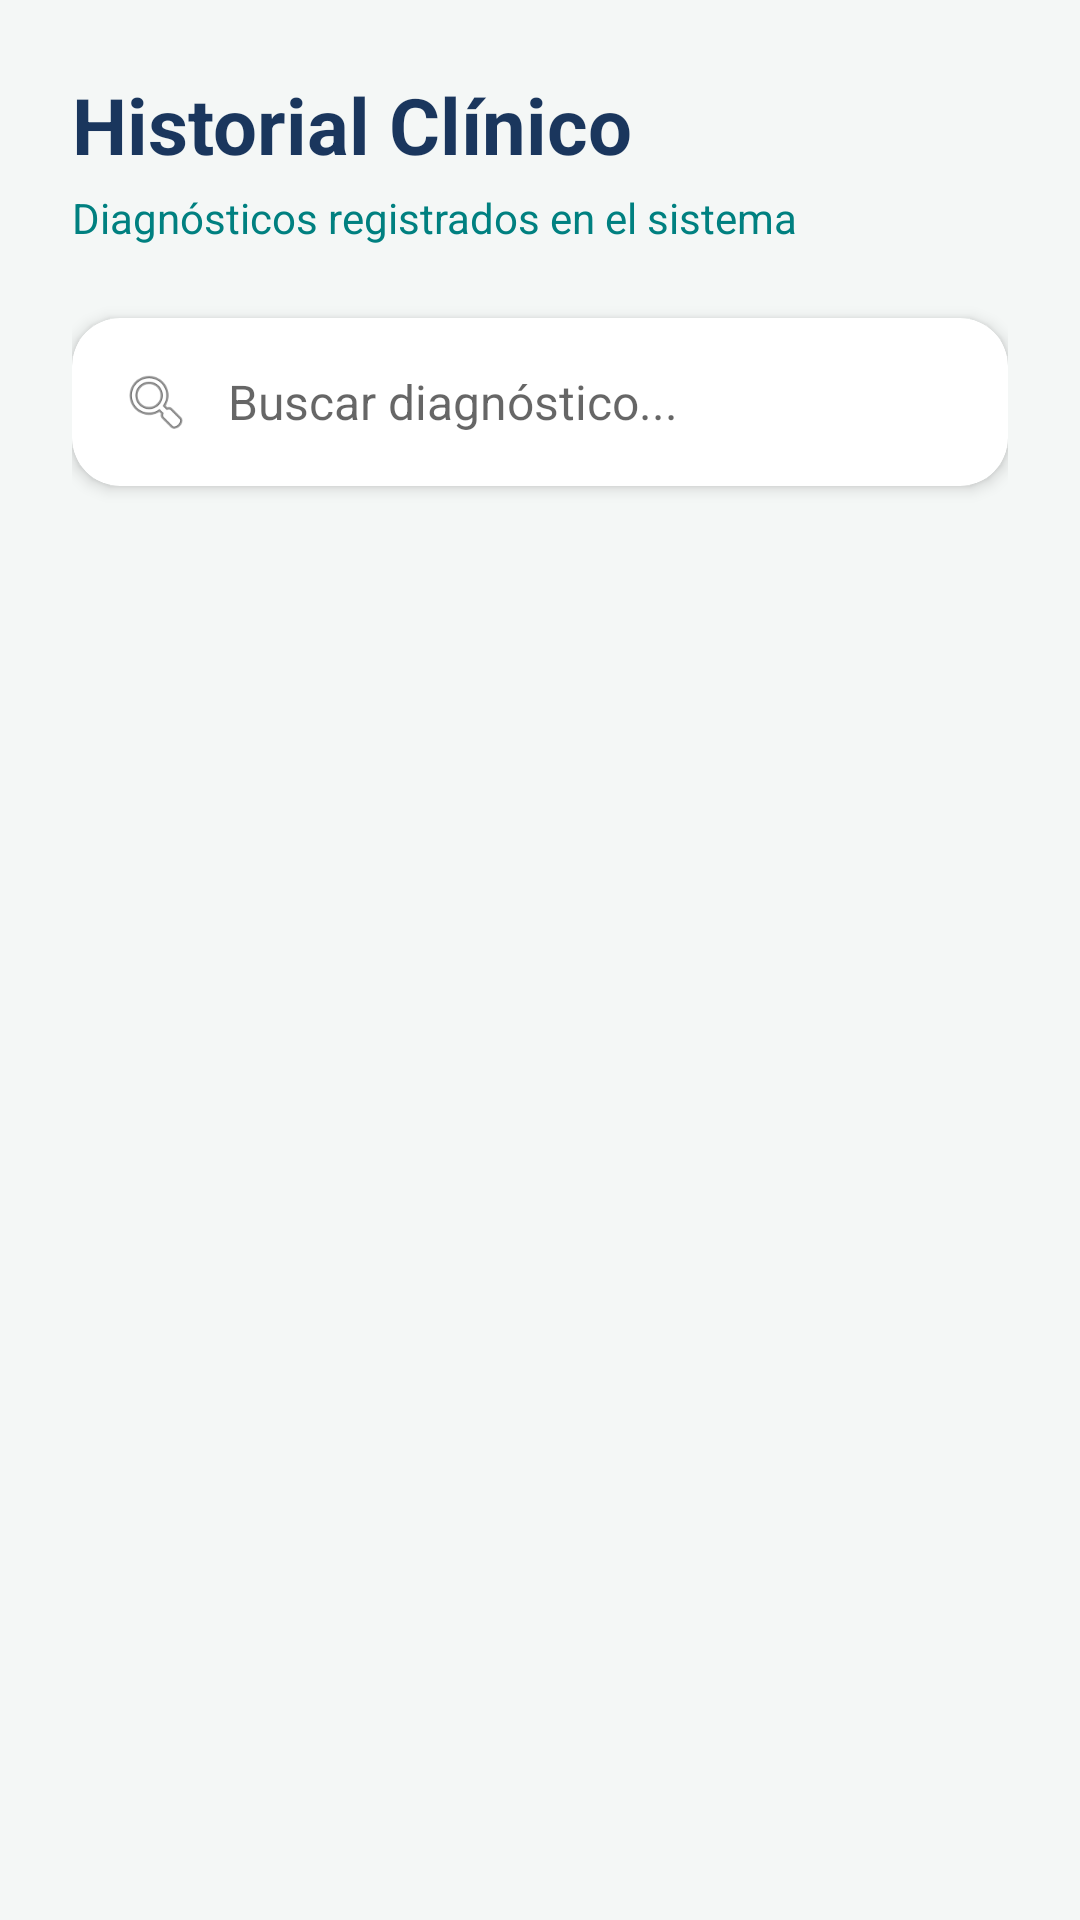

Screen size 1080*1920. Icon name, then its box in pixels as (x1, y1, x2, y2):
search: (129, 376, 183, 429)
